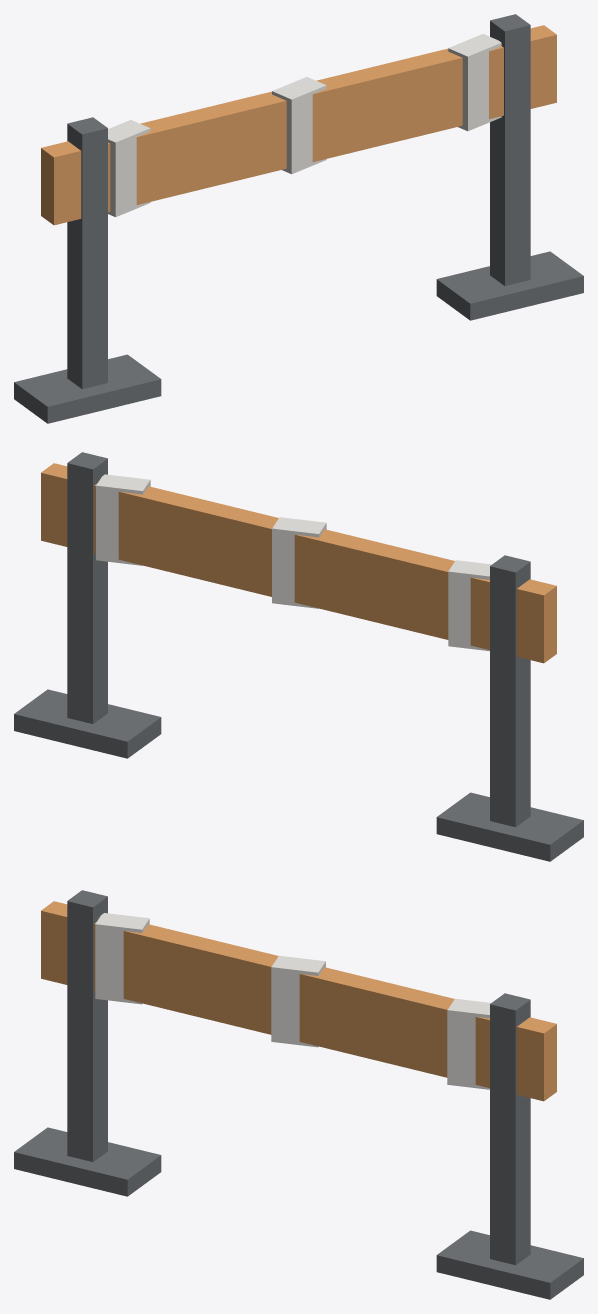
File: barrier_02.glb
The picture shows the model from 3 angles, top to bottom: view 1: azimuth 30°, elevation 25°; view 2: azimuth 150°, elevation 25°; view 3: azimuth 330°, elevation 25°; orthographic projection.
Parts seen in each view (by area): view 1: board, leg-0.651, leg0.651, foot0.651, foot-0.651, stripe0.0, stripe0.5425, stripe-0.5425; view 2: board, leg-0.651, leg0.651, foot0.651, foot-0.651, stripe0.0, stripe0.5425, stripe-0.5425; view 3: board, leg0.651, leg-0.651, foot-0.651, foot0.651, stripe0.0, stripe-0.5425, stripe0.5425.
Part boxes in pixels (x1,y1,x2,y2): board: [41, 25, 556, 225]; leg-0.651: [67, 117, 107, 389]; leg0.651: [490, 14, 530, 285]; foot0.651: [436, 251, 583, 320]; foot-0.651: [14, 354, 161, 423]; stripe0.0: [272, 77, 326, 174]; stripe0.5425: [448, 34, 501, 131]; stripe-0.5425: [108, 120, 150, 217]; board: [41, 463, 556, 663]; leg-0.651: [490, 555, 530, 827]; leg0.651: [67, 452, 107, 723]; foot0.651: [14, 689, 161, 758]; foot-0.651: [436, 792, 583, 861]; stripe0.0: [272, 517, 326, 608]; stripe0.5425: [96, 474, 150, 565]; stripe-0.5425: [448, 560, 491, 651]; board: [41, 901, 556, 1101]; leg0.651: [490, 993, 530, 1265]; leg-0.651: [67, 890, 107, 1161]; foot-0.651: [14, 1127, 161, 1196]; foot0.651: [436, 1230, 583, 1299]; stripe0.0: [271, 955, 325, 1047]; stripe-0.5425: [95, 913, 149, 1004]; stripe0.5425: [447, 998, 490, 1089].
Size of the model in its own units: 1.65 by 0.8 by 0.18.
